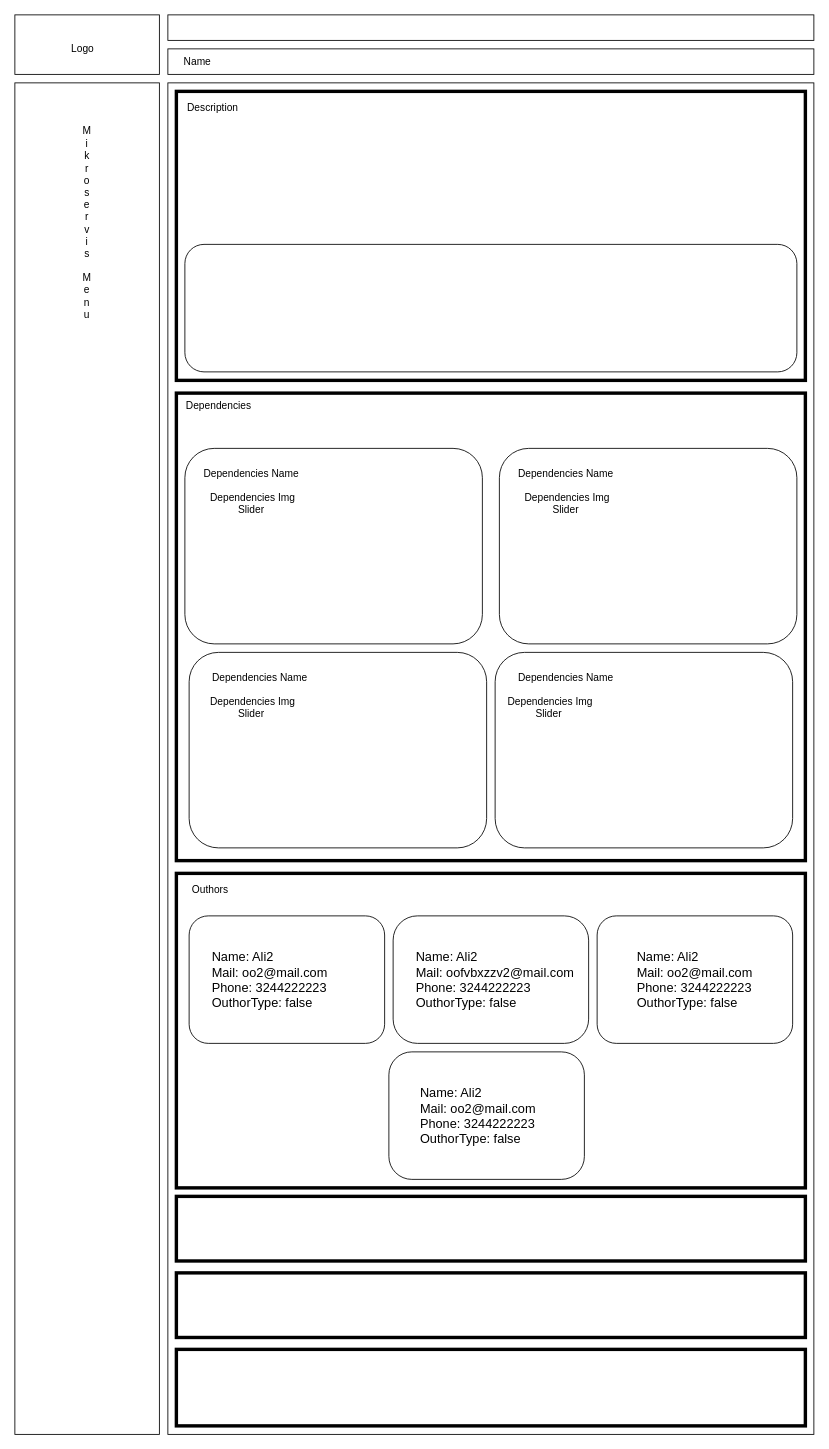
This 829x1449 diagram has some shape labels left out. The centre of each missing label's shape, as x and y in pixels:
Description Img Slider: the point at 490,308
Documentation: the point at 490,1305
Keywords: the point at 490,1387
Repo: the point at 490,1228
